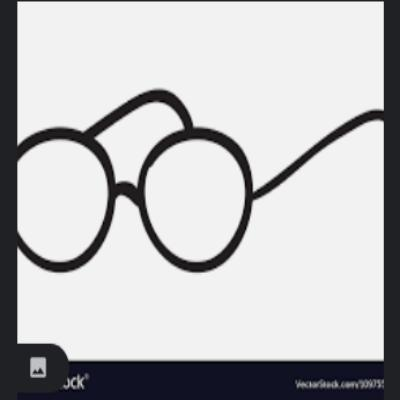glasses: (16, 89, 384, 286)
